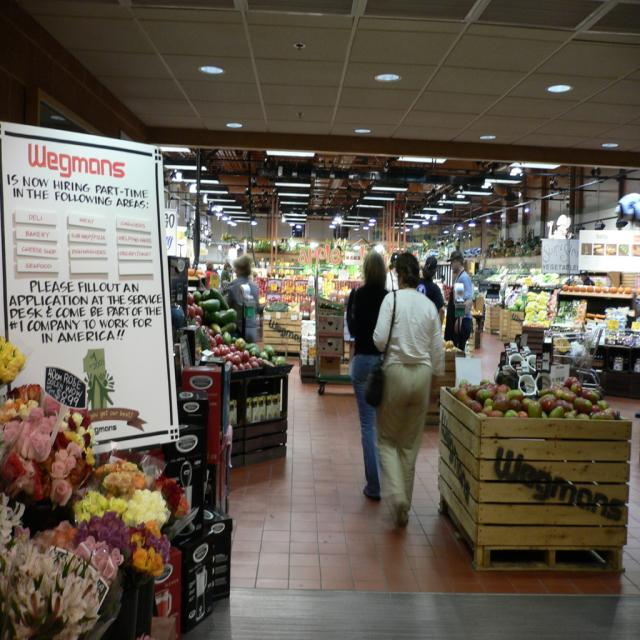Healty Apple: (210, 343, 263, 370), (187, 289, 212, 341), (281, 278, 296, 303), (254, 276, 267, 302), (296, 281, 310, 302), (336, 281, 360, 289), (443, 283, 452, 300), (268, 279, 278, 293), (214, 330, 222, 346), (266, 295, 278, 301)
